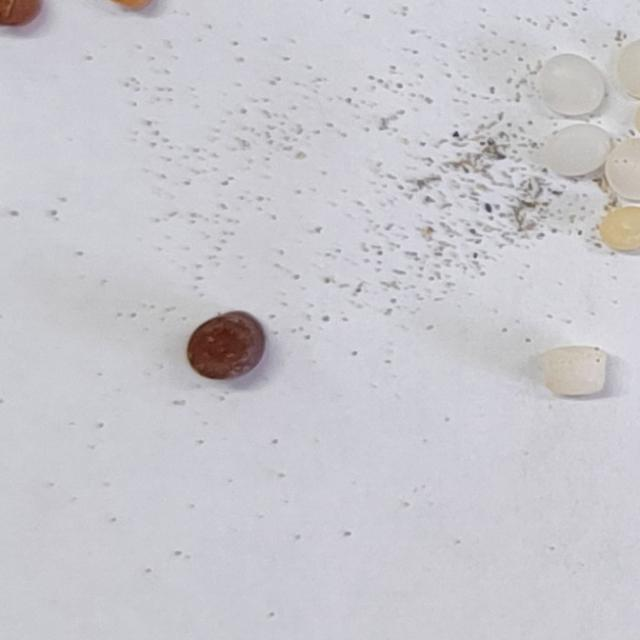beads: (182, 308, 268, 384), (527, 121, 602, 181), (540, 55, 607, 115), (543, 346, 608, 397), (607, 138, 640, 200), (601, 207, 640, 250)
